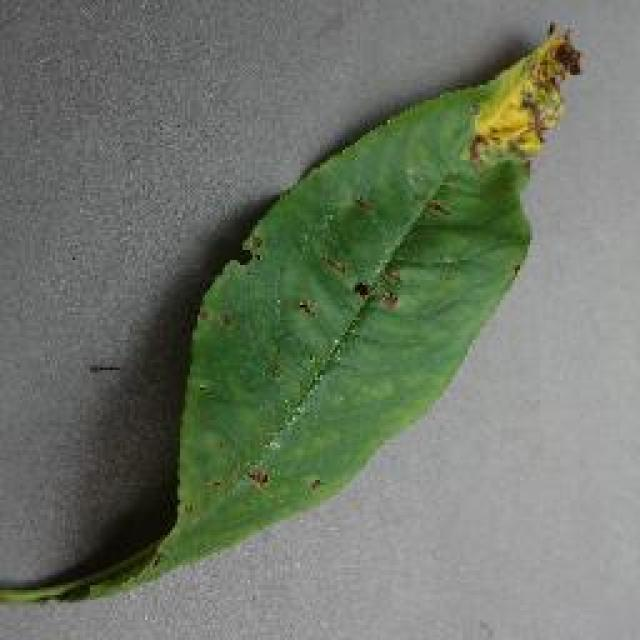Peach_Bacterial_Spot: (314, 137, 534, 373)
